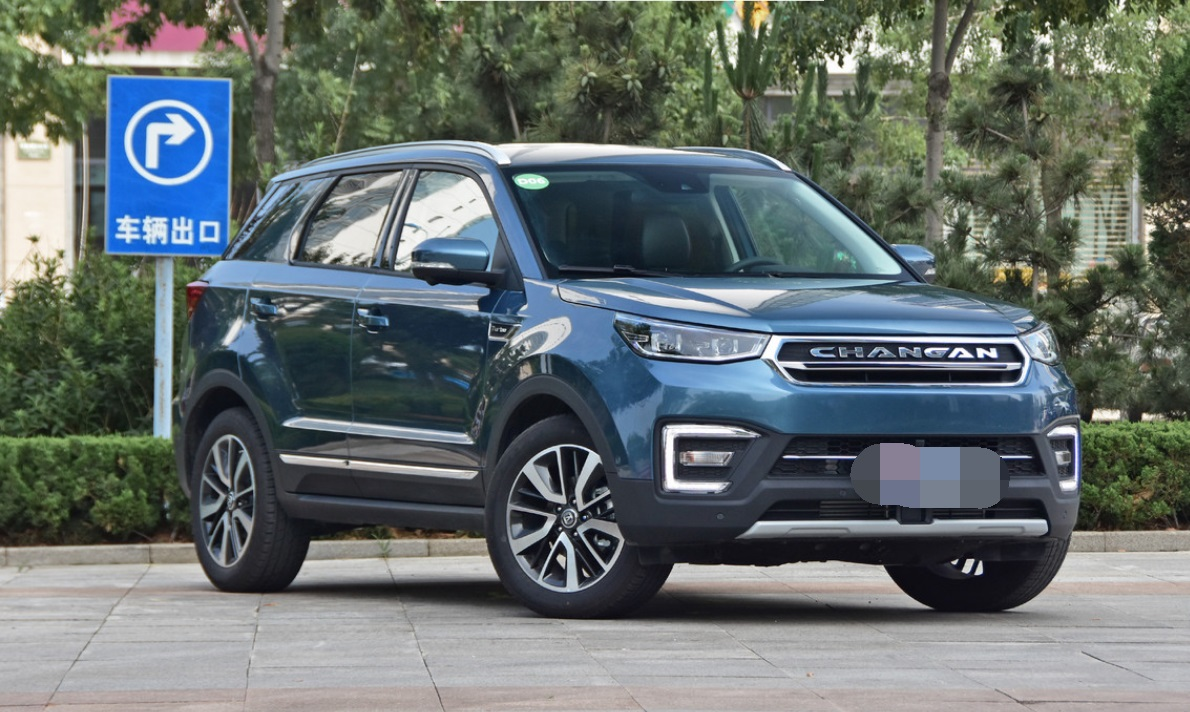SUV: (173, 135, 1088, 617)
